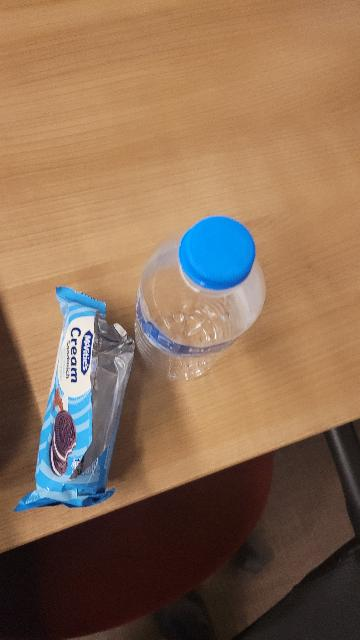Plastik: (14, 286, 131, 528), (179, 217, 255, 289)
